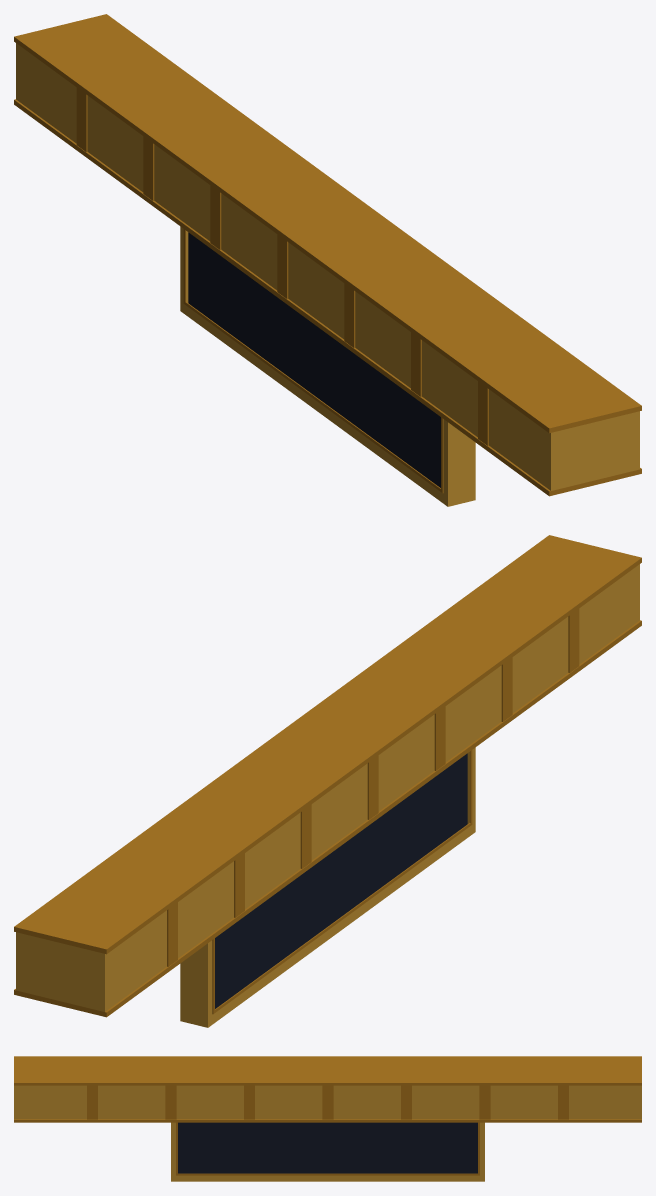
The model's file is bridge_sign.glb.
3 renders of one model, top to bottom at view 1: azimuth 30°, elevation 25°; view 2: azimuth 150°, elevation 25°; view 3: azimuth 270°, elevation 25°, orthographic. The views are drawn at different scales.
Visible parts, largest first — view 1: bridge_sign; view 2: bridge_sign; view 3: bridge_sign.
Boxes of the visible parts, x1,y1,x2,y2 form: bridge_sign: [14, 14, 641, 506]; bridge_sign: [14, 535, 641, 1027]; bridge_sign: [14, 1056, 641, 1181].
Size of the model in its own units: 2 by 3.8 by 20.
